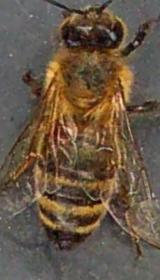varroa_mite: (47, 118, 81, 142)
